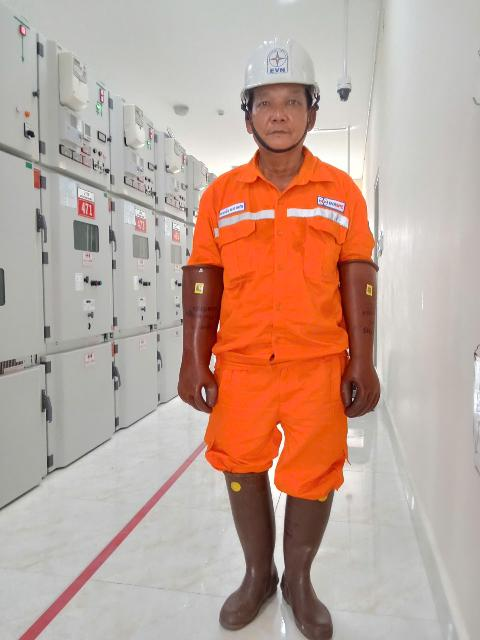gloves: (153, 239, 262, 428), (324, 245, 412, 414)
helmet: (217, 5, 347, 122)
shoes: (196, 457, 287, 637), (281, 452, 359, 640)
